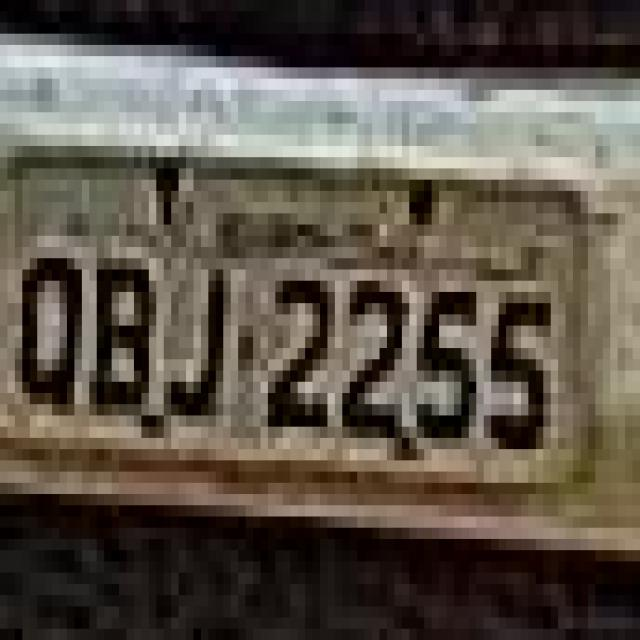5: (483, 244, 556, 463), (419, 258, 481, 465)
B: (90, 240, 158, 432), (172, 250, 231, 436)
Q: (14, 220, 85, 423)
